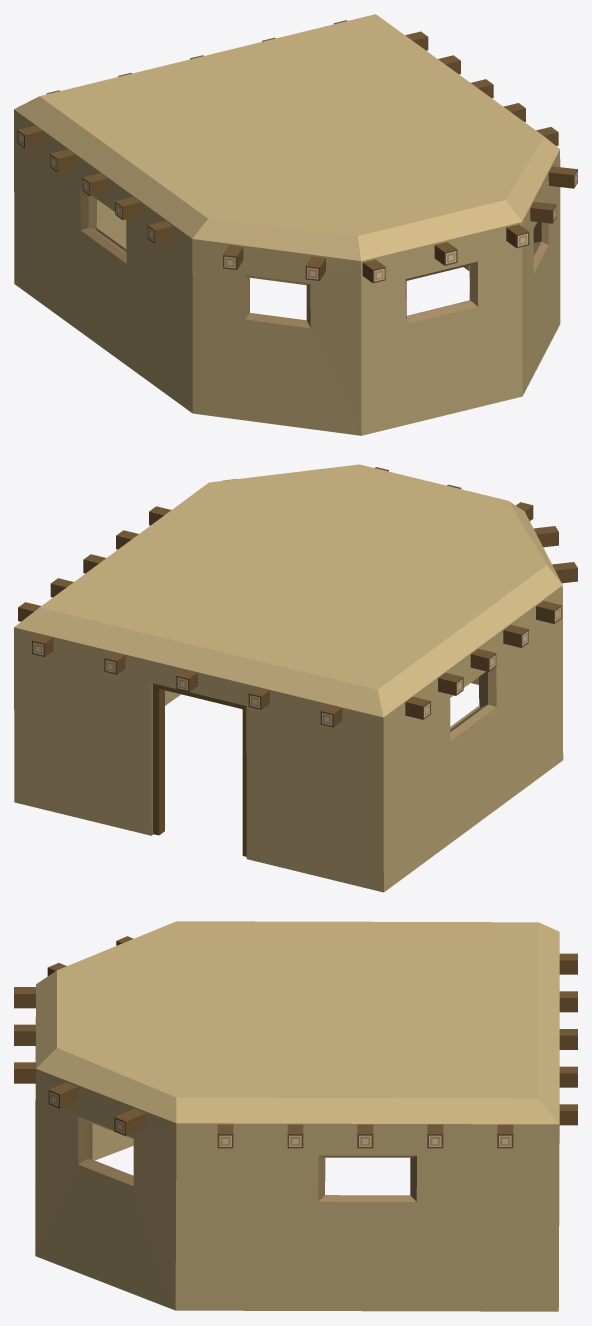
The model's file is Bunker_2.FBX.
3 views of the same model, one above another, from view 1: azimuth 30°, elevation 25°; view 2: azimuth 150°, elevation 25°; view 3: azimuth 270°, elevation 25° (orthographic). The views are drawn at different scales.
Parts seen in each view (by area): view 1: Bunker_2; view 2: Bunker_2; view 3: Bunker_2.
Part boxes in pixels (left/top/right/bottom): Bunker_2: left=14, top=14, right=577, bottom=435; Bunker_2: left=14, top=464, right=577, bottom=892; Bunker_2: left=14, top=921, right=577, bottom=1311.
Size of the model in its own units: 8.06 by 3.67 by 9.08.
Materials: 1 (1 with a texture image).
